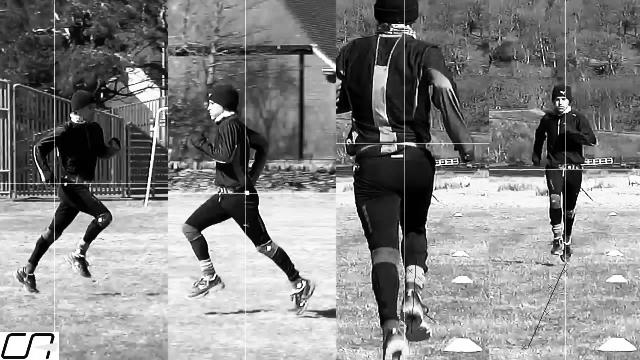berlari: (334, 0, 476, 360), (174, 82, 320, 322), (19, 88, 127, 302), (524, 80, 604, 268)
